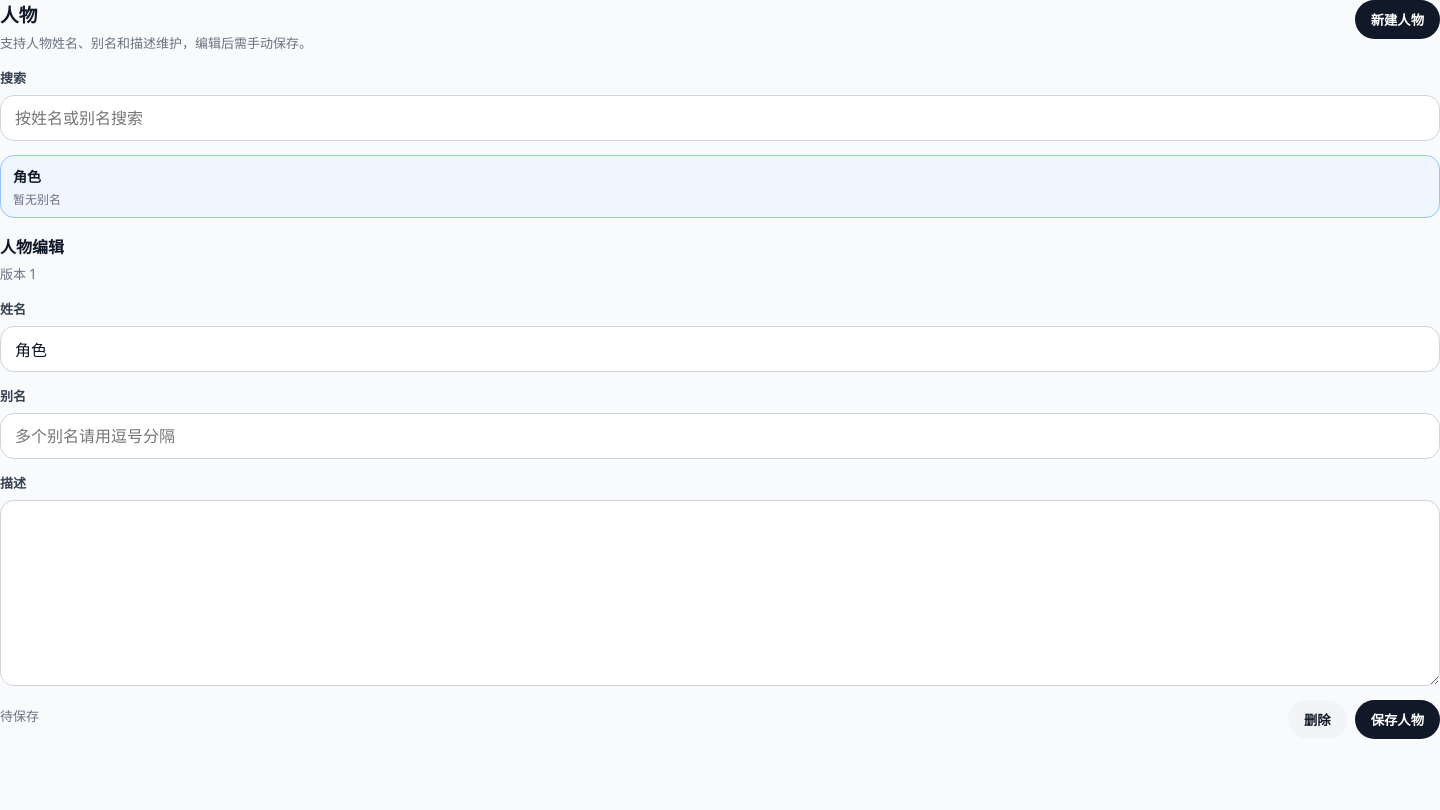
Test: CharacterPanel › discards local asset draft and reloads server content after conflict discard
Type "本地描述" into the text box with test id "character-description".
click(720, 593); type("本地描述")  # box left=0, top=500, right=1439, bottom=686
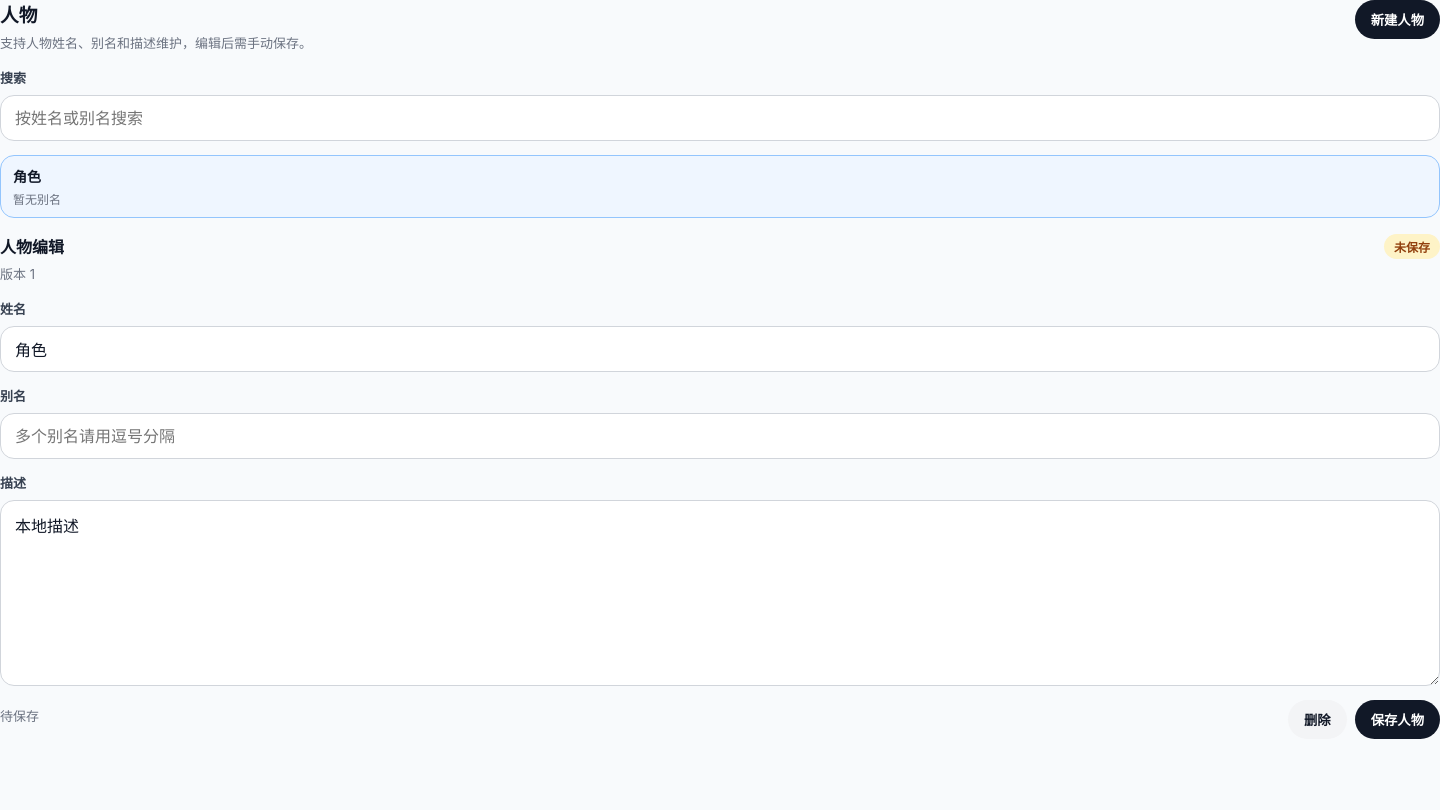
Click the button with class "save-button".
click(1397, 719)  # box left=1355, top=700, right=1439, bottom=739
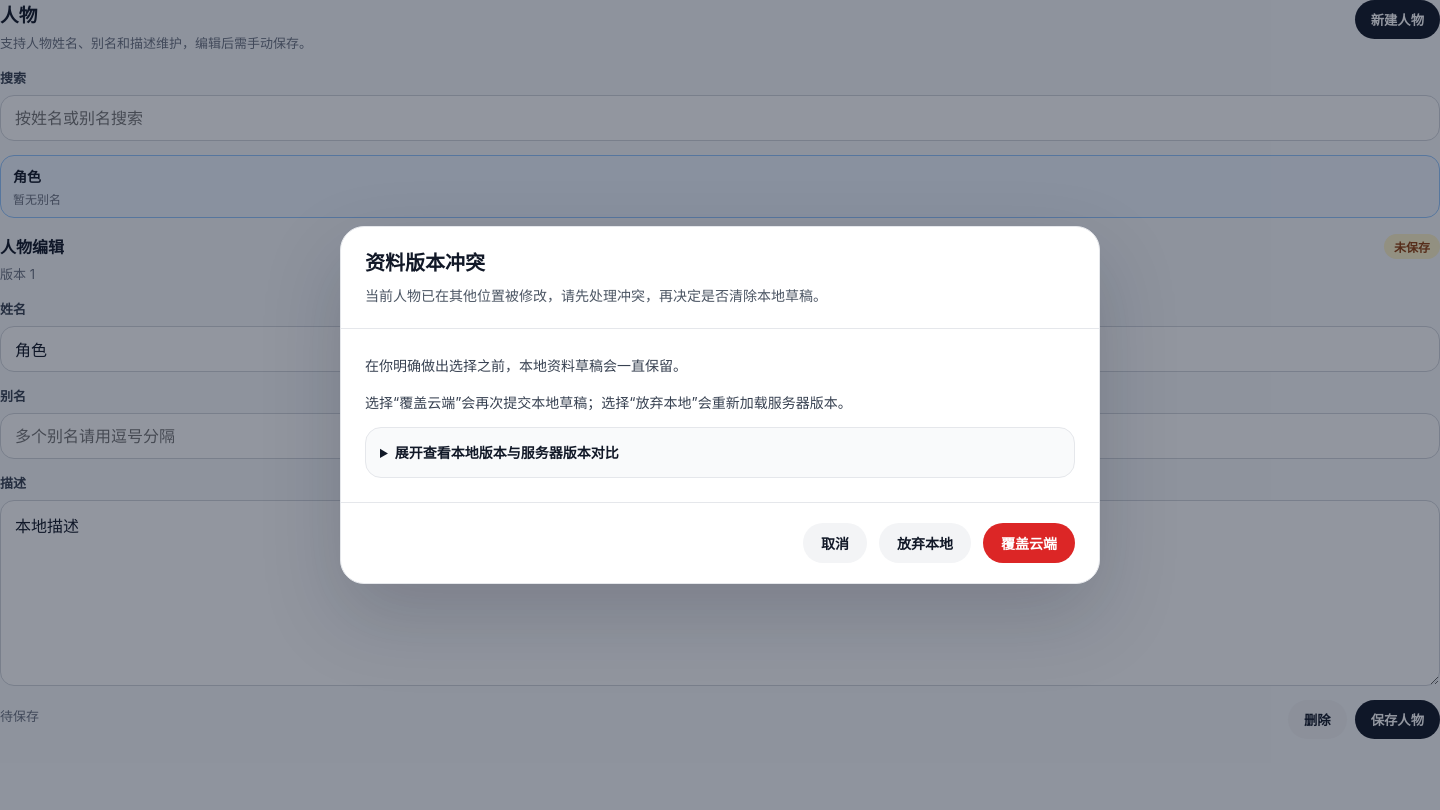
Click the button with class "ghost-button" showing "放弃本地".
click(925, 543)  # box left=879, top=523, right=971, bottom=563
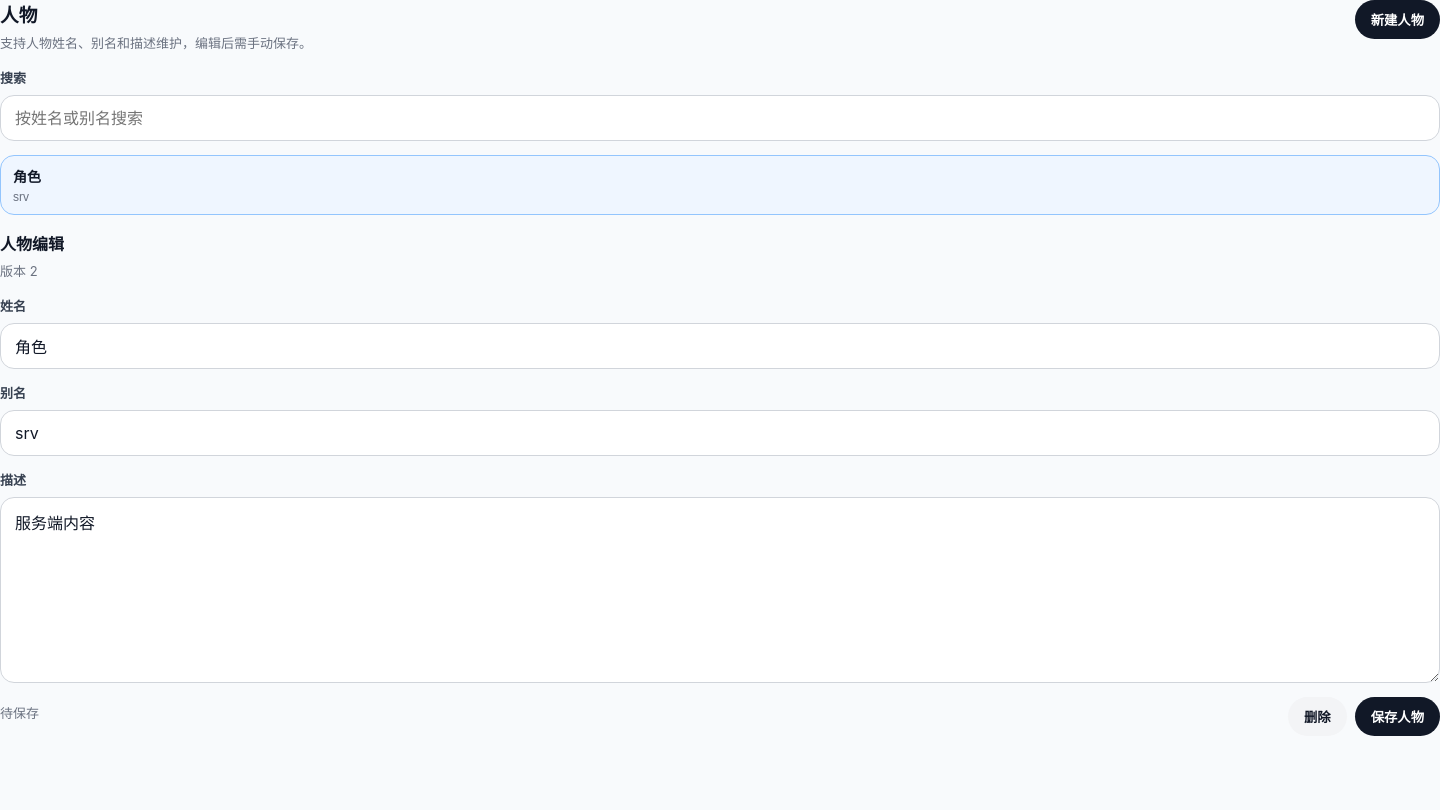
Check: the text box with test id "character-description" holds "服务端内容", box left=0, top=497, right=1439, bottom=683
Check: the field with test id "character-aliases" holds "srv", box left=0, top=410, right=1439, bottom=456
